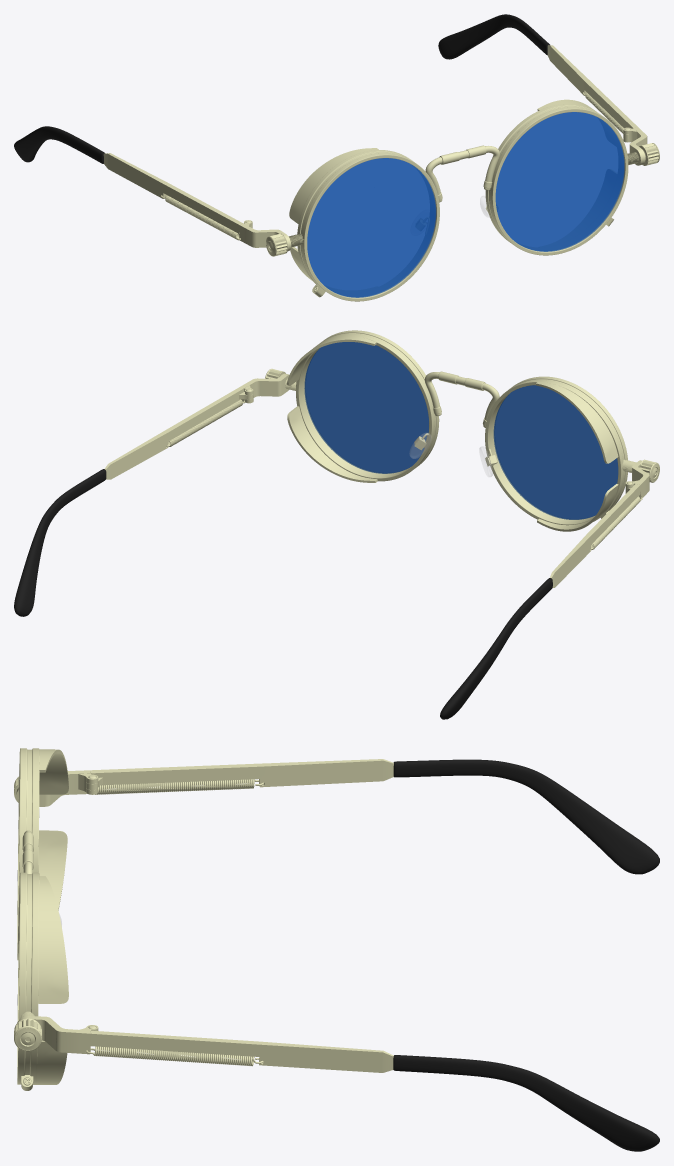
The model's file is glasses-8.glb.
The picture shows the model from 3 angles, top to bottom: view 1: azimuth 30°, elevation 25°; view 2: azimuth 150°, elevation 25°; view 3: azimuth 270°, elevation 25°; orthographic projection. The views are drawn at different scales.
Parts seen in each view (by area): view 1: Object_2, Object_10, Object_8, Object_4, Object_5, Object_9, Object_6, Object_7; view 2: Object_2, Object_10, Object_8, Object_4, Object_5, Object_9, Object_7, Object_6, Object_3; view 3: Object_8, Object_4, Object_5, Object_10, Object_7, Object_6.
Part boxes in pixels (x1,y1,x2,y2): Object_2: (307,112,624,297); Object_10: (297,104,628,301); Object_8: (103,45,647,297); Object_4: (14,14,549,163); Object_5: (289,99,594,280); Object_9: (425,145,500,202); Object_6: (266,143,659,256); Object_7: (161,93,623,240); Object_2: (304,342,618,519); Object_10: (296,330,627,525); Object_8: (104,373,649,587); Object_4: (14,469,552,719); Object_5: (286,335,618,531); Object_9: (424,371,499,427); Object_7: (166,399,642,549); Object_6: (265,368,659,482); Object_3: (409,433,492,476); Object_8: (16,759,393,1090); Object_4: (393,759,659,1151); Object_5: (36,749,68,1084); Object_10: (17,748,39,1084); Object_7: (86,779,263,1066); Object_6: (14,776,41,1051).
Size of the model in its own units: 3.39 by 0.9982 by 3.03.
